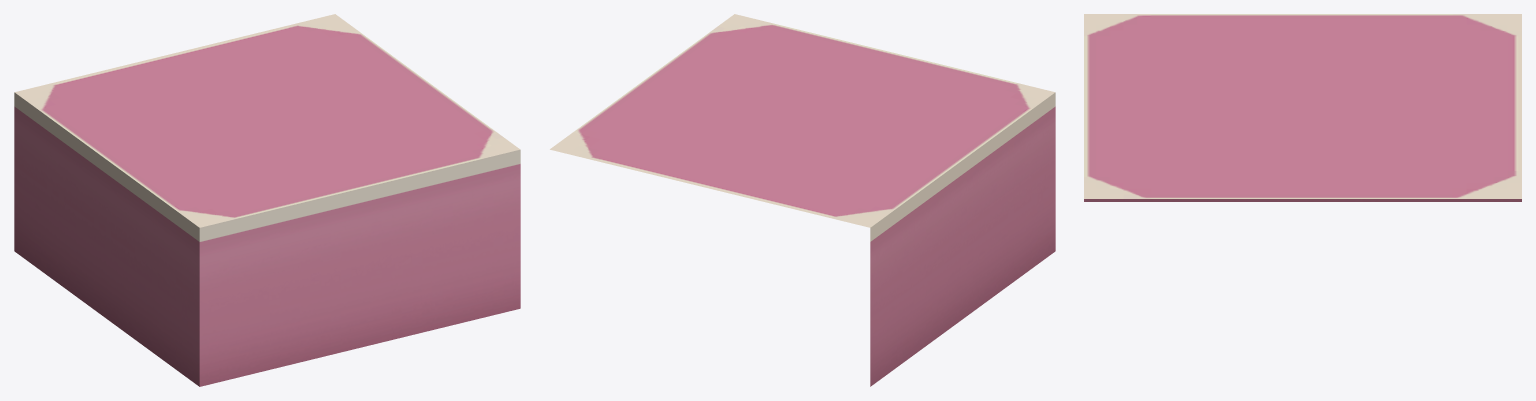
The model's file is my_chocolatecafe_01_p_tile_02.glb.
3 views of the same model, side by side, from view 1: azimuth 30°, elevation 25°; view 2: azimuth 150°, elevation 25°; view 3: azimuth 270°, elevation 25° (orthographic). The views are drawn at different scales.
Visible parts, largest first — view 1: my_chocolatecafe_01_p_tile_02; view 2: my_chocolatecafe_01_p_tile_02; view 3: my_chocolatecafe_01_p_tile_02.
Boxes of the visible parts, bbox=[...] form: my_chocolatecafe_01_p_tile_02: bbox=[14, 14, 520, 386]; my_chocolatecafe_01_p_tile_02: bbox=[550, 14, 1055, 386]; my_chocolatecafe_01_p_tile_02: bbox=[1084, 14, 1521, 201].
Bounding box in the file's own units: 0.006 × 0.00284 × 0.006.
Materials: 1 (1 with a texture image).
